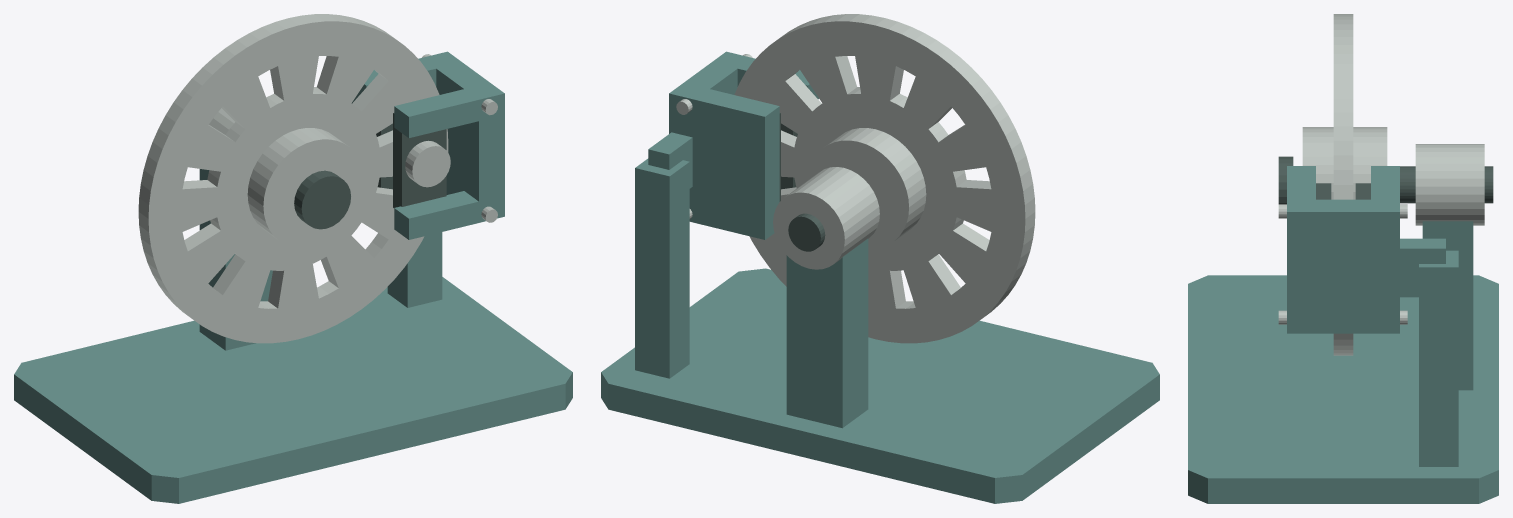
3 renders of one model, left to right at view 1: azimuth 30°, elevation 25°; view 2: azimuth 150°, elevation 25°; view 3: azimuth 270°, elevation 25°, orthographic.
Visible parts, largest first — view 1: WholeChamferedDisplayPlinth, WholeTwelveSlotDisc, WholeOpenInspectionBridgeCaliper, WholeDiscCentreHub, WholeIndependentCaliperPedestal, WholeFrontAxleCap, WholeFrontFinitePad, WholeFrontBluntPistonAppearance, WholeRearAxlePedestal; view 2: WholeChamferedDisplayPlinth, WholeTwelveSlotDisc, WholeOpenInspectionBridgeCaliper, WholeRearAxlePedestal, WholeIndependentCaliperPedestal, WholeDiscCentreHub, WholeBoredRearAxleBearing, WholeCaliperBackRoot, WholeFixedAxle; view 3: WholeChamferedDisplayPlinth, WholeOpenInspectionBridgeCaliper, WholeIndependentCaliperPedestal, WholeBoredRearAxleBearing, WholeTwelveSlotDisc, WholeRearAxlePedestal, WholeDiscCentreHub, WholeCaliperBackRoot, WholeFixedAxle, WholeFrontAxleCap.
Part boxes in pixels (<box>): WholeChamferedDisplayPlinth: <box>14,277,572,503</box>; WholeTwelveSlotDisc: <box>138,14,448,343</box>; WholeOpenInspectionBridgeCaliper: <box>351,51,504,239</box>; WholeDiscCentreHub: <box>247,128,364,248</box>; WholeIndependentCaliperPedestal: <box>387,232,442,307</box>; WholeFrontAxleCap: <box>294,170,350,229</box>; WholeFrontFinitePad: <box>393,113,446,207</box>; WholeFrontBluntPistonAppearance: <box>405,140,450,187</box>; WholeRearAxlePedestal: <box>199,169,272,350</box>; WholeChamferedDisplayPlinth: <box>601,268,1159,503</box>; WholeTwelveSlotDisc: <box>734,14,1035,343</box>; WholeOpenInspectionBridgeCaliper: <box>669,51,818,239</box>; WholeRearAxlePedestal: <box>786,238,868,428</box>; WholeIndependentCaliperPedestal: <box>635,158,689,378</box>; WholeDiscCentreHub: <box>807,128,926,249</box>; WholeBoredRearAxleBearing: <box>773,167,879,269</box>; WholeCaliperBackRoot: <box>648,132,692,188</box>; WholeFixedAxle: <box>788,213,825,251</box>; WholeChamferedDisplayPlinth: <box>1188,275,1498,503</box>; WholeOpenInspectionBridgeCaliper: <box>1287,166,1399,333</box>; WholeIndependentCaliperPedestal: <box>1419,250,1458,466</box>; WholeBoredRearAxleBearing: <box>1415,144,1484,225</box>; WholeTwelveSlotDisc: <box>1333,14,1353,355</box>; WholeRearAxlePedestal: <box>1422,221,1473,390</box>; WholeDiscCentreHub: <box>1302,127,1387,199</box>; WholeCaliperBackRoot: <box>1400,238,1445,297</box>; WholeFixedAxle: <box>1400,166,1493,203</box>; WholeFrontAxleCap: <box>1278,156,1293,204</box>.
Bounding box in the file's own units: 0.68 × 0.582 × 0.44.
